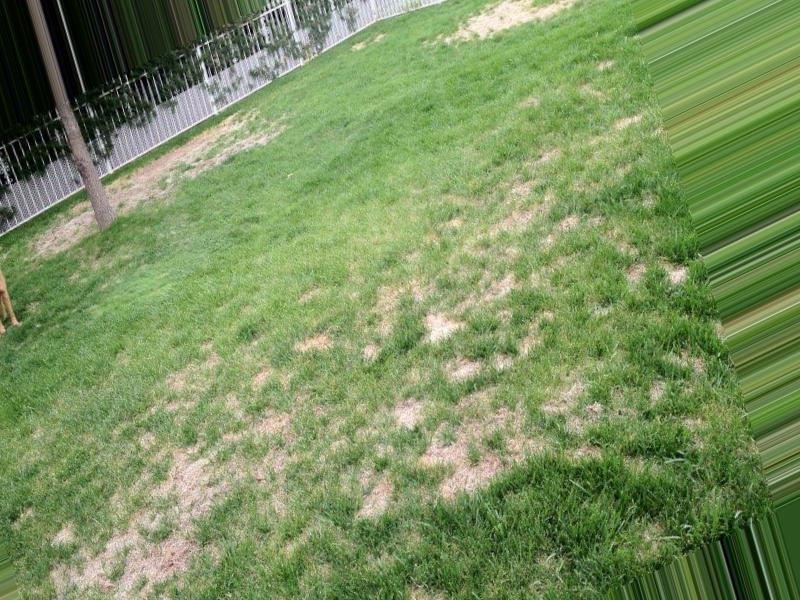patch: (505, 134, 627, 276), (362, 397, 534, 492), (184, 370, 309, 484), (390, 275, 491, 371), (154, 464, 217, 554), (77, 170, 197, 197), (463, 4, 508, 35)
